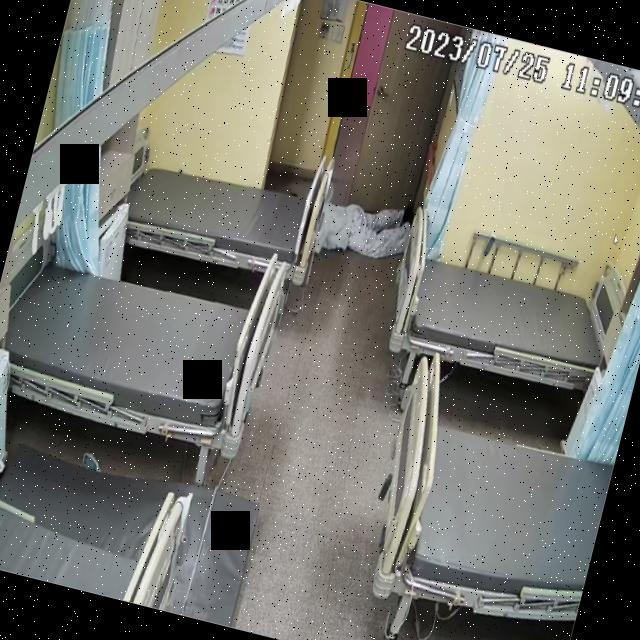bed: (356, 348, 630, 639), (0, 243, 279, 455), (377, 231, 633, 403), (118, 144, 326, 285)
fall: (313, 162, 417, 272)
patient: (314, 165, 416, 270)
